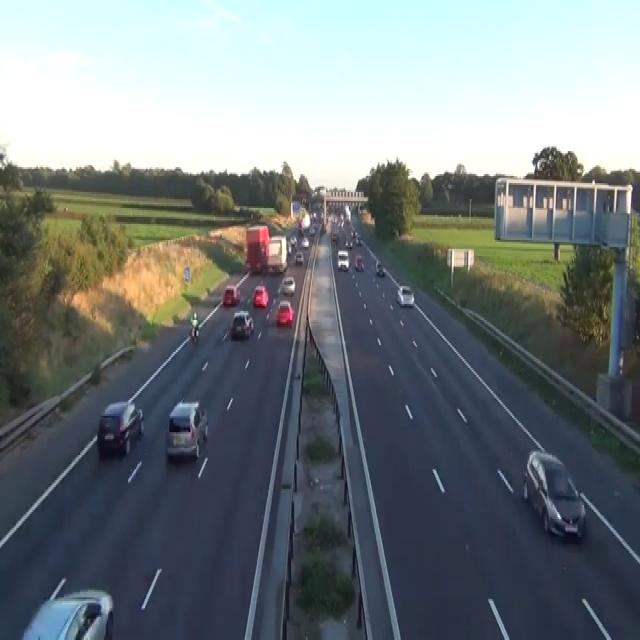Car: (522, 450, 586, 540), (21, 578, 114, 638), (164, 398, 208, 459), (97, 400, 144, 455), (230, 310, 253, 340), (276, 299, 294, 327), (396, 284, 414, 306), (222, 284, 240, 306), (252, 284, 268, 308), (281, 276, 295, 295), (337, 249, 349, 270), (287, 235, 298, 254), (189, 324, 199, 343), (354, 254, 364, 270), (375, 260, 384, 276), (295, 251, 303, 263), (331, 231, 338, 244), (300, 237, 309, 247), (344, 238, 352, 249), (290, 235, 297, 247), (286, 240, 292, 254), (297, 224, 304, 235), (309, 224, 315, 235), (355, 235, 361, 245), (320, 224, 325, 235)
Truck: (244, 224, 287, 274)
